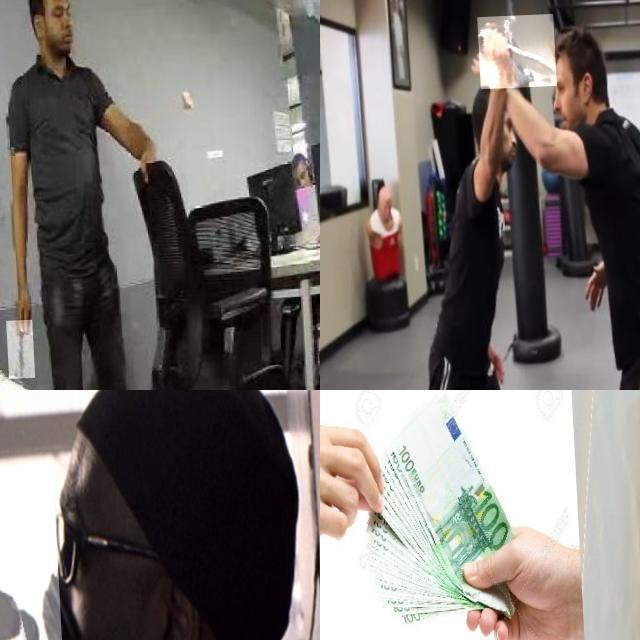-: (476, 17, 556, 92), (1, 322, 29, 382)
gun-knife-thesis - v11 Yolov5 augmented: (0, 468, 163, 640)
